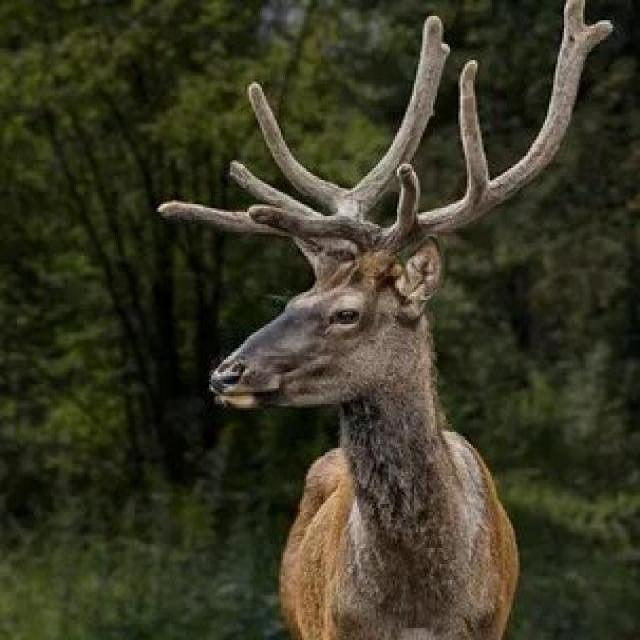deer: (156, 119, 528, 532)
